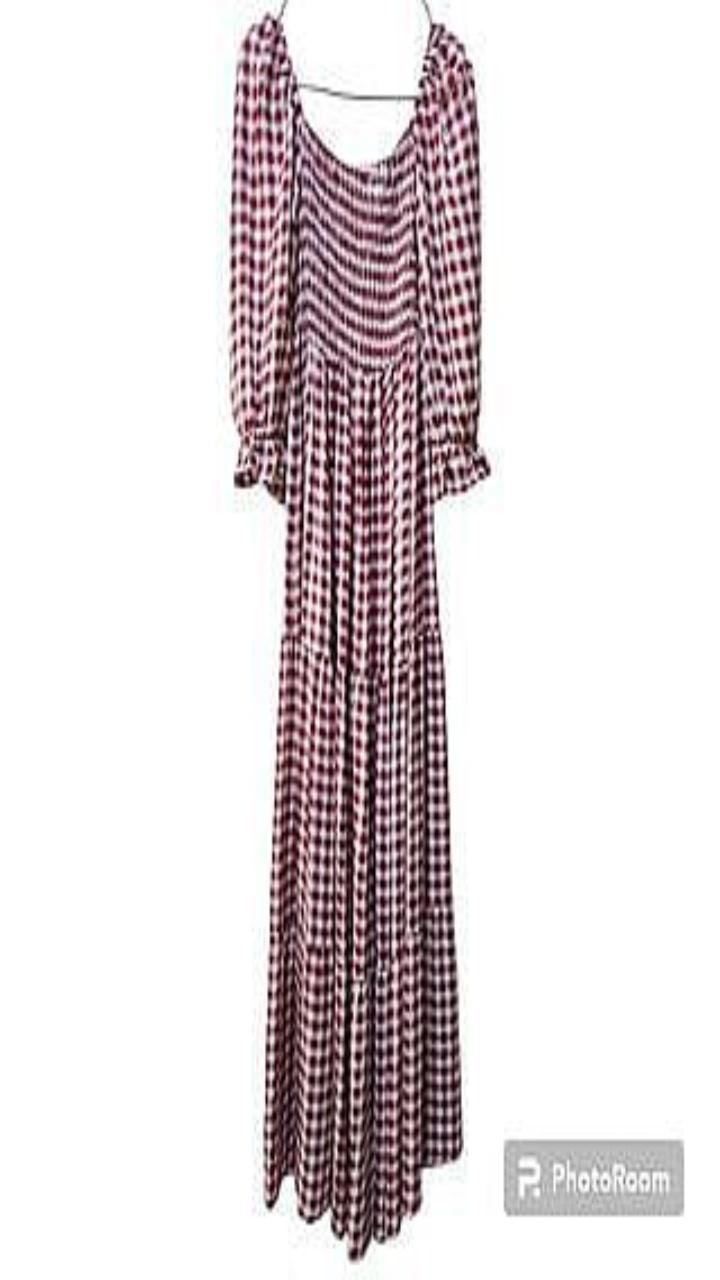Dresses: (231, 15, 489, 1257)
